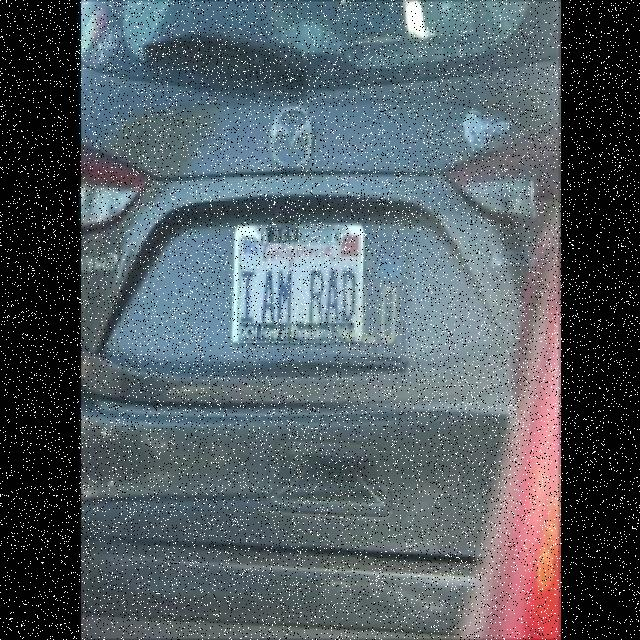licenseplate: (235, 219, 362, 341)
